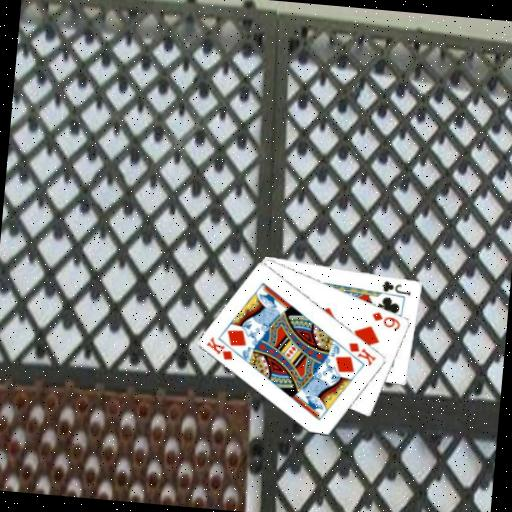6D: (369, 308, 404, 332)
JC: (379, 277, 414, 297)
KD: (345, 339, 380, 368), (202, 333, 237, 362)
